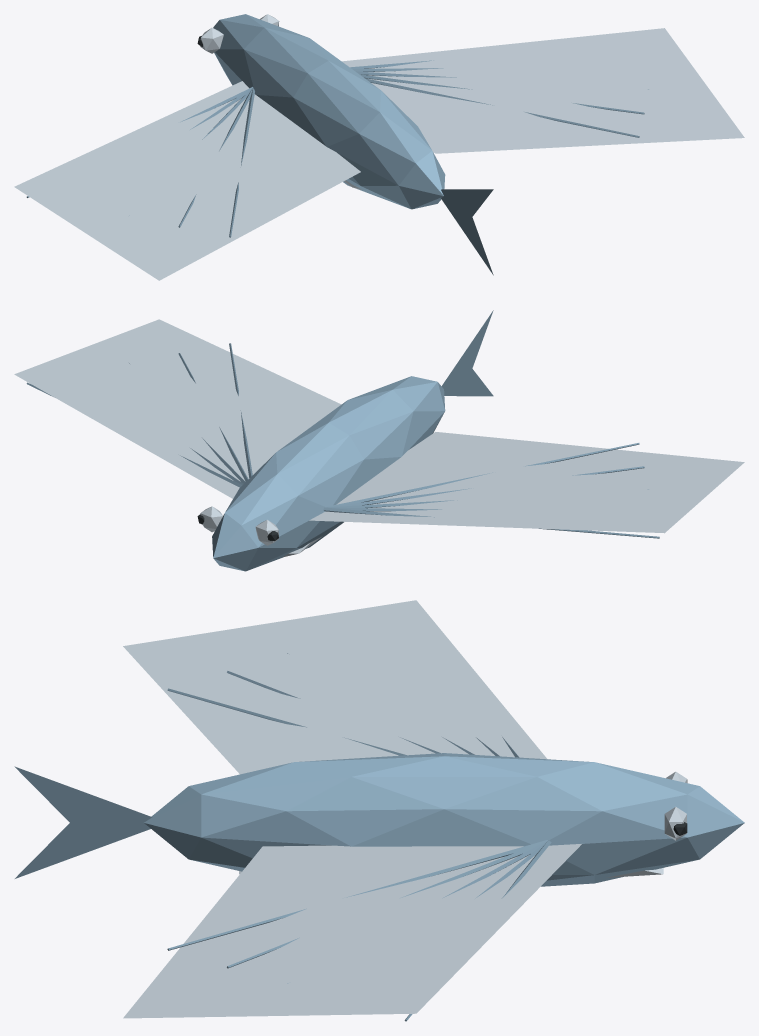
Rendered from FlyingFish.fbx.
3 views of the same model, one above another, from view 1: azimuth 30°, elevation 25°; view 2: azimuth 150°, elevation 25°; view 3: azimuth 270°, elevation 25° (orthographic). The views are drawn at different scales.
Visible parts, largest first — view 1: GlidingWing1, GlidingWing-1, Body, TailFin, FinRay-1_4, FinRay-1_3, FinRay1_4; view 2: GlidingWing1, GlidingWing-1, Body, TailFin, FinRay1_4, FinRay1_0, FinRay1_3; view 3: GlidingWing-1, Body, GlidingWing1, TailFin, FinRay-1_4, FinRay-1_3.
Part boxes in pixels (left/top/right/bottom): GlidingWing1: left=14, top=81, right=360, bottom=280; GlidingWing-1: left=342, top=28, right=744, bottom=153; Body: left=213, top=14, right=445, bottom=209; TailFin: left=441, top=189, right=493, bottom=275; FinRay-1_4: left=365, top=78, right=639, bottom=137; FinRay-1_3: left=359, top=74, right=644, bottom=114; FinRay1_4: left=229, top=87, right=254, bottom=237; GlidingWing1: left=309, top=432, right=744, bottom=533; GlidingWing-1: left=14, top=319, right=341, bottom=498; Body: left=212, top=376, right=445, bottom=571; TailFin: left=441, top=310, right=493, bottom=396; FinRay1_4: left=326, top=443, right=639, bottom=506; FinRay1_0: left=323, top=507, right=659, bottom=538; FinRay1_3: left=325, top=466, right=644, bottom=507; GlidingWing-1: left=123, top=844, right=581, bottom=1018; Body: left=144, top=753, right=744, bottom=886; GlidingWing1: left=123, top=600, right=547, bottom=774; TailFin: left=14, top=766, right=152, bottom=878; FinRay-1_4: left=167, top=840, right=546, bottom=950; FinRay-1_3: left=227, top=840, right=547, bottom=968.
Size of the model in its own units: 1.4 by 0.21 by 1.05.
